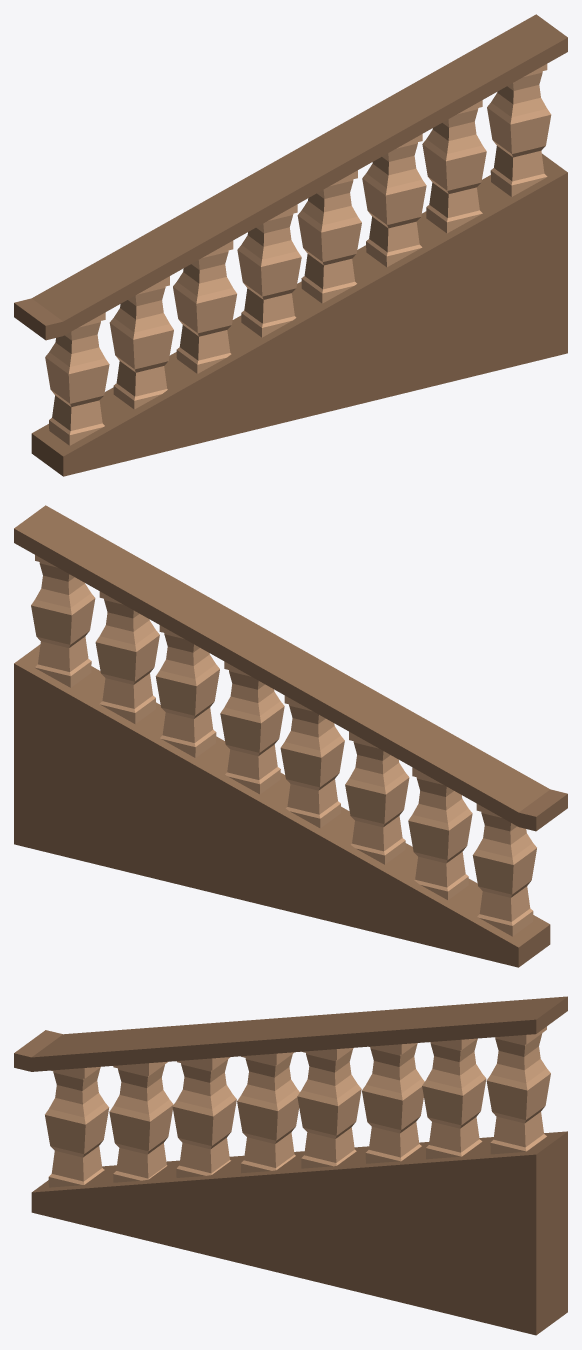
File: oblique-01.FBX
3 renders of one model, top to bottom at view 1: azimuth 30°, elevation 25°; view 2: azimuth 150°, elevation 25°; view 3: azimuth 330°, elevation 25°, orthographic.
Visible parts, largest first — view 1: Object019; view 2: Object019; view 3: Object019.
Part boxes in pixels (box(x1,y1,x2,y2)): Object019: box(14, 14, 567, 476); Object019: box(14, 505, 567, 967); Object019: box(14, 996, 567, 1335).
Bounding box in the file's own units: 667 × 386 × 70.15.
